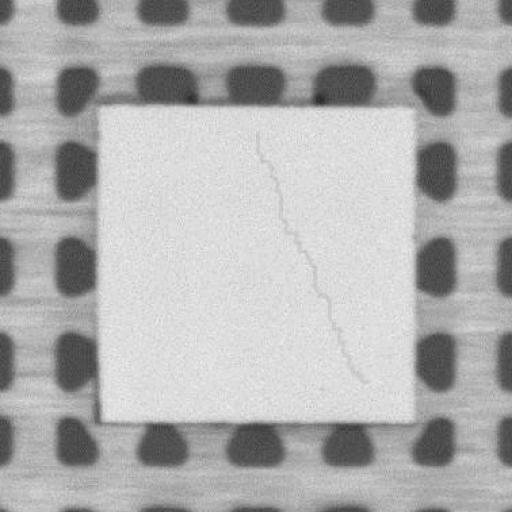DIE_CRACK: (256, 132, 370, 381)
